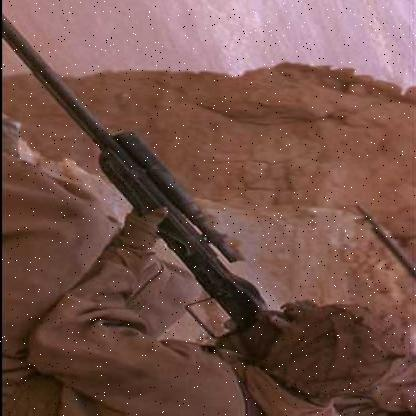rifle: (1, 11, 292, 369)
